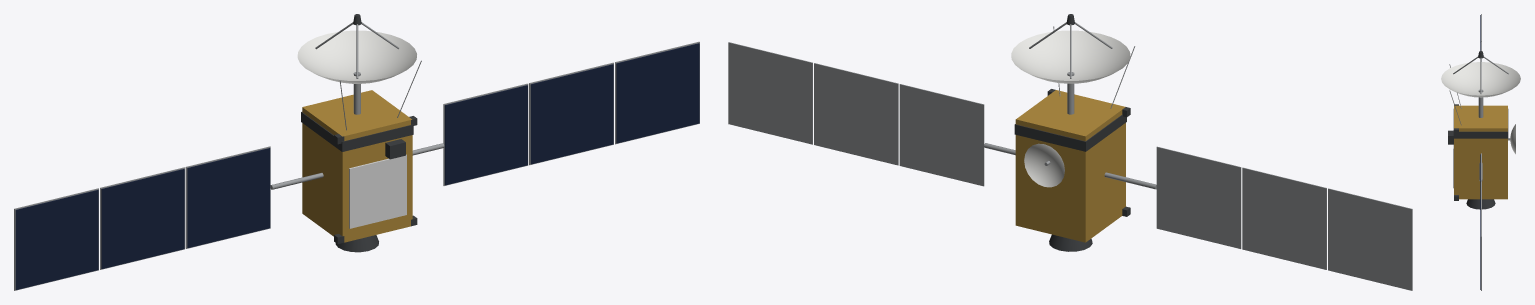
The model's file is OR04_relay_satellite.glb.
The picture shows the model from 3 angles, left to right: view 1: azimuth 30°, elevation 25°; view 2: azimuth 150°, elevation 25°; view 3: azimuth 270°, elevation 25°; orthographic projection. The views are drawn at different scales.
Visible parts, largest first — view 1: solar_panel, bus, high_gain_dish, radiator_panel, bus_band; view 2: bus, high_gain_dish, bus_band; view 3: bus, high_gain_dish, bus_band, solar_panel.
Boxes of the visible parts, left/top/right/bottom form: solar_panel: left=15, top=43, right=699, bottom=289; bus: left=14, top=22, right=699, bottom=290; high_gain_dish: left=297, top=30, right=416, bottom=83; radiator_panel: left=349, top=154, right=406, bottom=228; bus_band: left=301, top=14, right=417, bottom=252; bus: left=728, top=22, right=1412, bottom=290; high_gain_dish: left=1011, top=30, right=1130, bottom=187; bus_band: left=1014, top=14, right=1130, bottom=251; bus: left=1449, top=14, right=1510, bottom=290; high_gain_dish: left=1441, top=62, right=1520, bottom=154; bus_band: left=1448, top=51, right=1508, bottom=209; solar_panel: left=1480, top=15, right=1480, bottom=289.
Size of the model in its own units: 21.56 by 6.85 by 3.27.
